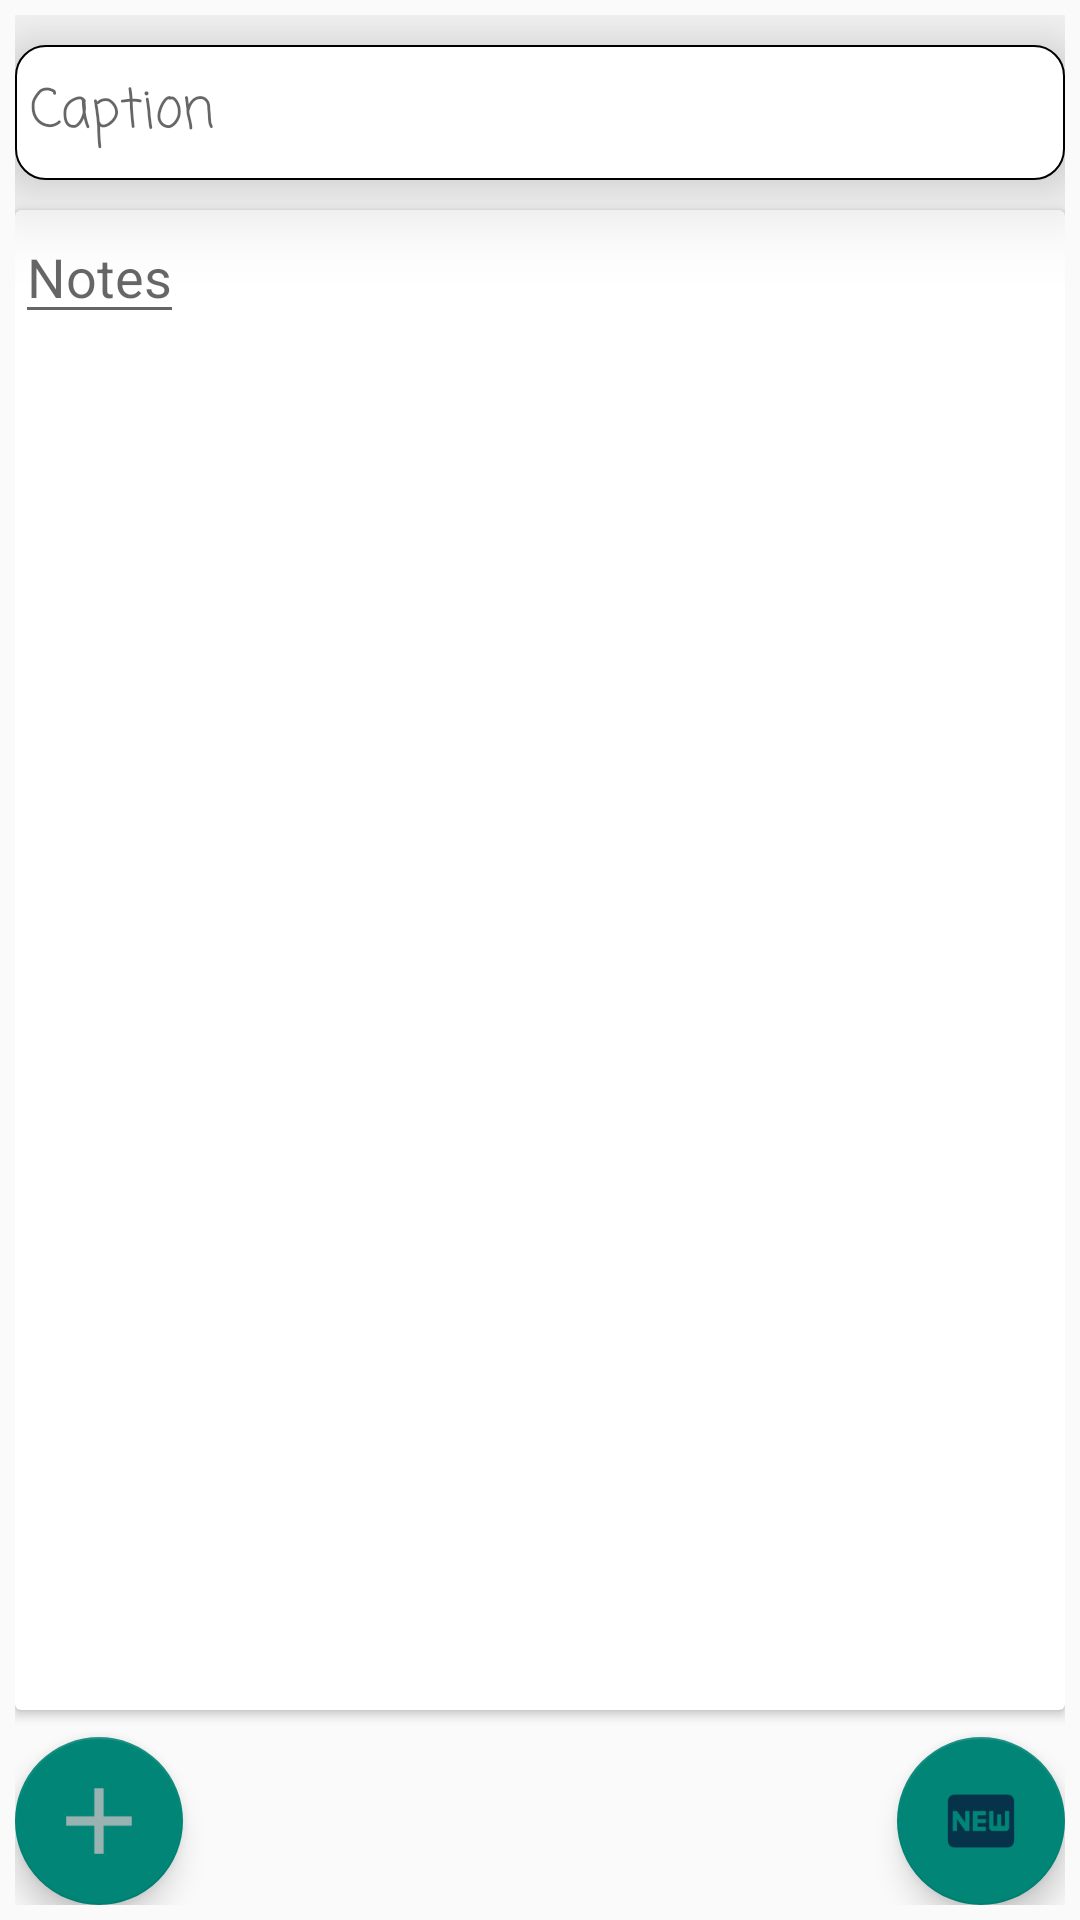

Icons on this 1080x1920 Android screen, each with its box as Rect(x1, y1, x2, y2):
add: Rect(15, 1737, 183, 1905)
